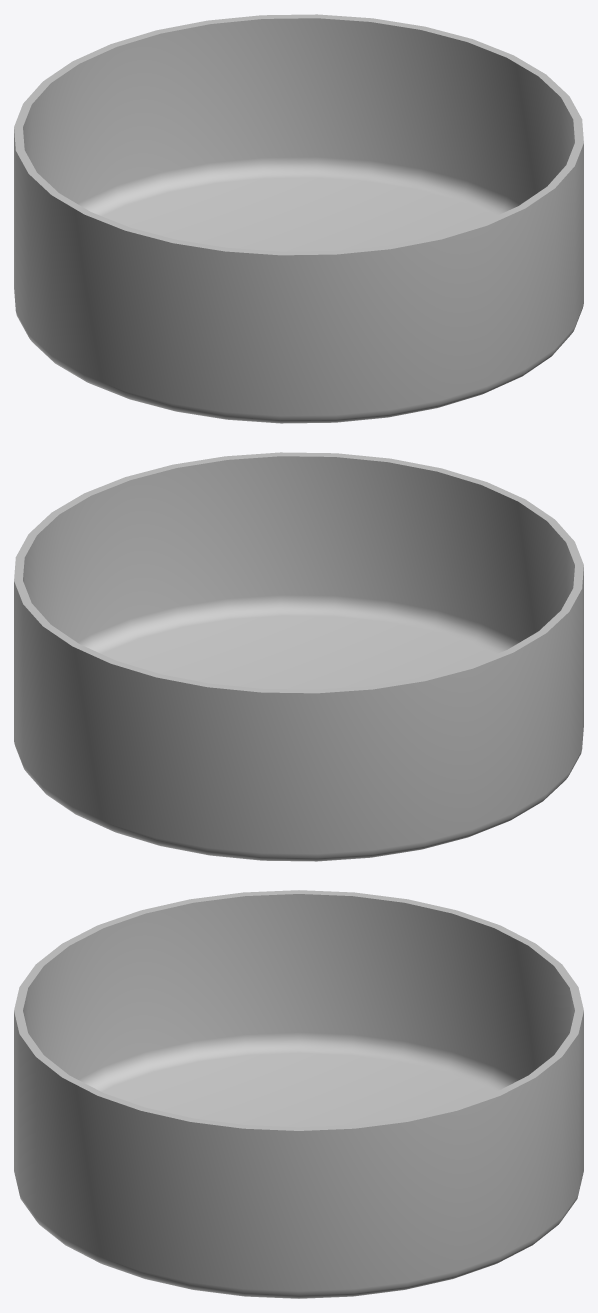
File: PetriDish.fbx
The picture shows the model from 3 angles, top to bottom: view 1: azimuth 30°, elevation 25°; view 2: azimuth 150°, elevation 25°; view 3: azimuth 270°, elevation 25°; orthographic projection.
Parts seen in each view (by area): view 1: Bowl; view 2: Bowl; view 3: Bowl.
Boxes of the visible parts, x1=… form: Bowl: x1=14, y1=14, x2=583, y2=423; Bowl: x1=14, y1=452, x2=583, y2=861; Bowl: x1=14, y1=890, x2=583, y2=1298.
Bounding box in the file's own units: 15 × 5 × 15.
